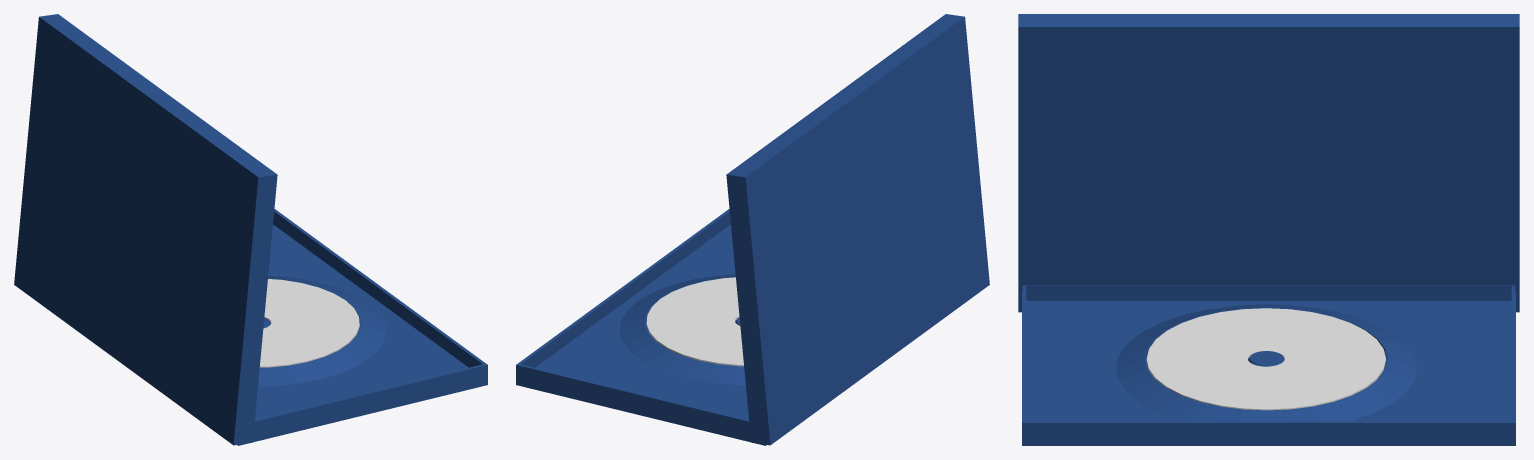
File: PS4-Case.fbx
3 views of the same model, side by side, from view 1: azimuth 30°, elevation 25°; view 2: azimuth 150°, elevation 25°; view 3: azimuth 270°, elevation 25° (orthographic). The views are drawn at different scales.
Parts seen in each view (by area): view 1: Cube.021, Cube.020, Cylinder.020, Cylinder.019; view 2: Cube.021, Cube.020, Cylinder.020, Cylinder.019; view 3: Cube.021, Cube.020, Cylinder.020, Cylinder.019.
Part boxes in pixels (left/top/right/bottom): Cube.021: left=14, top=14, right=277, bottom=445; Cube.020: left=237, top=209, right=487, bottom=445; Cylinder.020: left=259, top=279, right=359, bottom=367; Cylinder.019: left=258, top=275, right=386, bottom=386; Cube.021: left=726, top=14, right=989, bottom=445; Cube.020: left=516, top=209, right=766, bottom=445; Cylinder.020: left=646, top=277, right=743, bottom=366; Cylinder.019: left=619, top=274, right=745, bottom=384; Cube.021: left=1018, top=14, right=1519, bottom=312; Cube.020: left=1022, top=285, right=1515, bottom=445; Cylinder.020: left=1146, top=308, right=1385, bottom=410; Cylinder.019: left=1115, top=304, right=1417, bottom=420.
Size of the model in its own units: 130 by 129 by 193.
